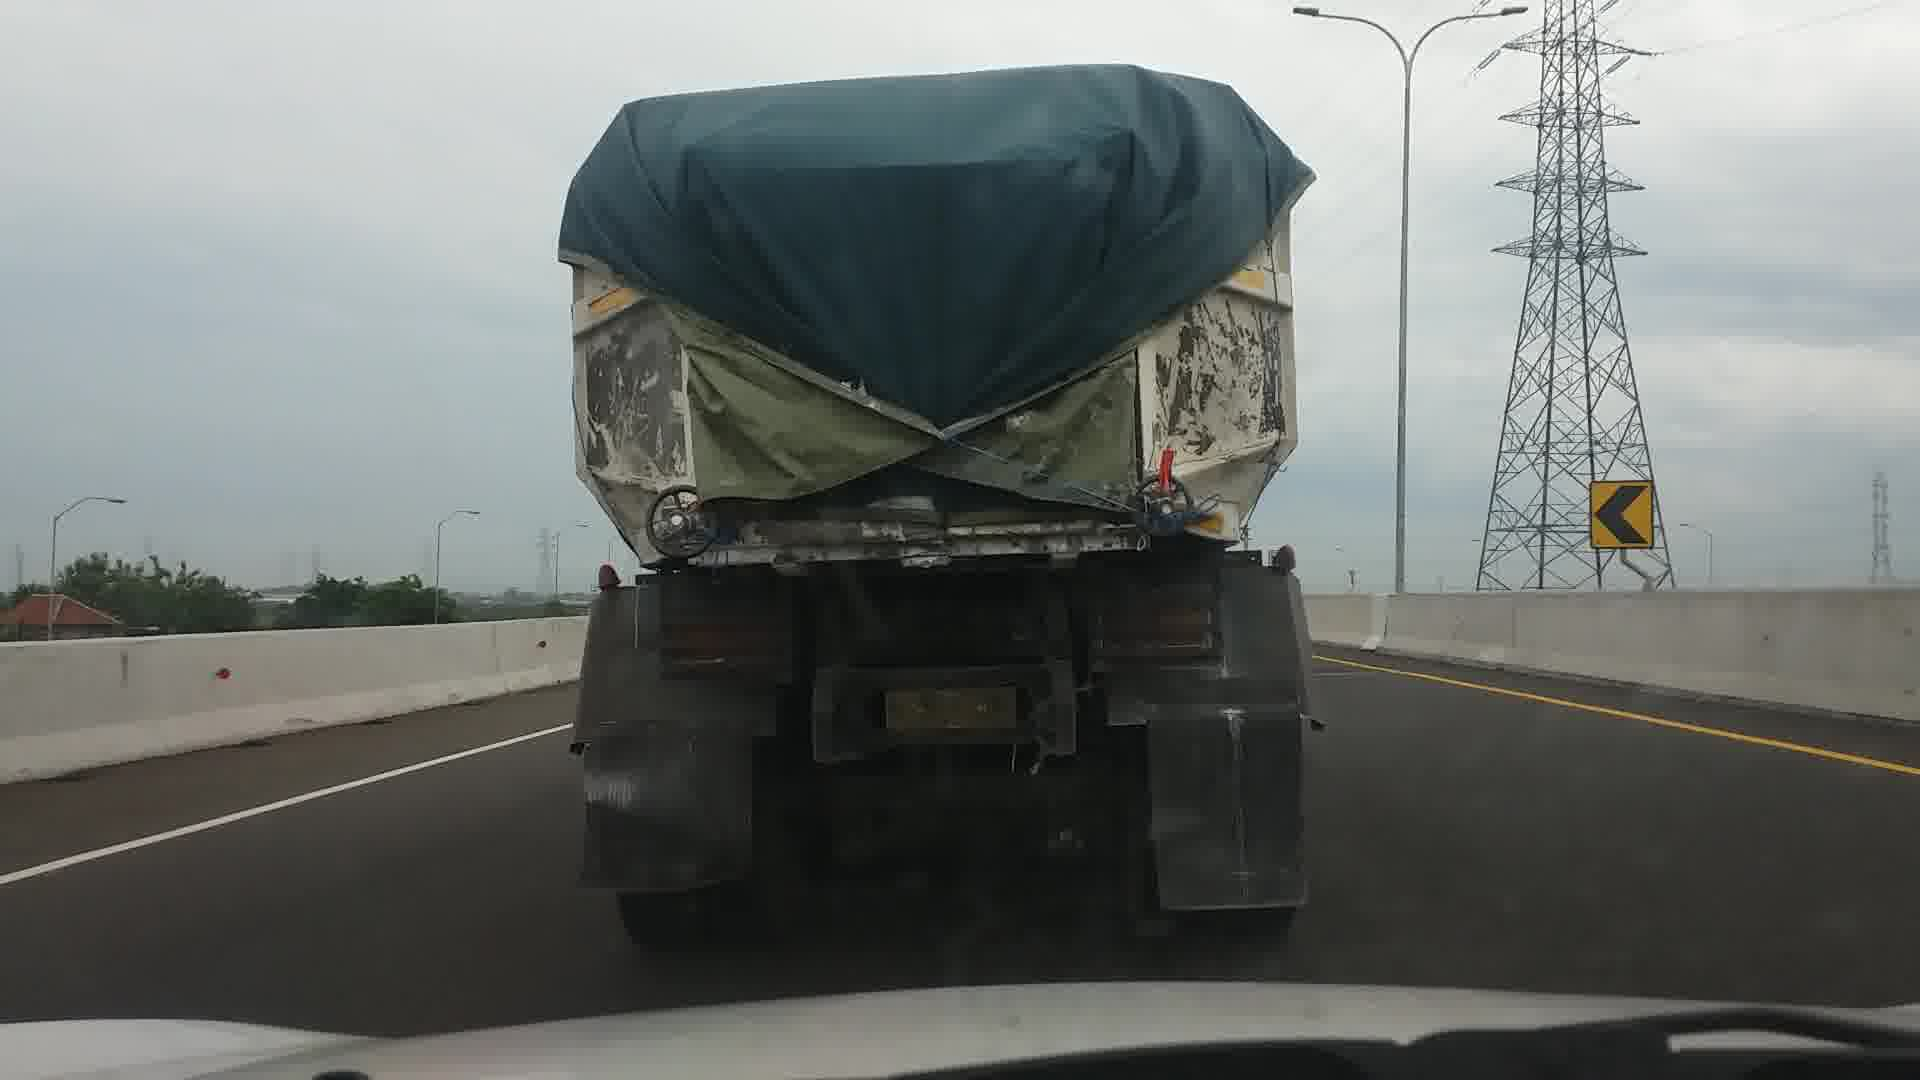plate_positive: (884, 688, 1017, 733)
